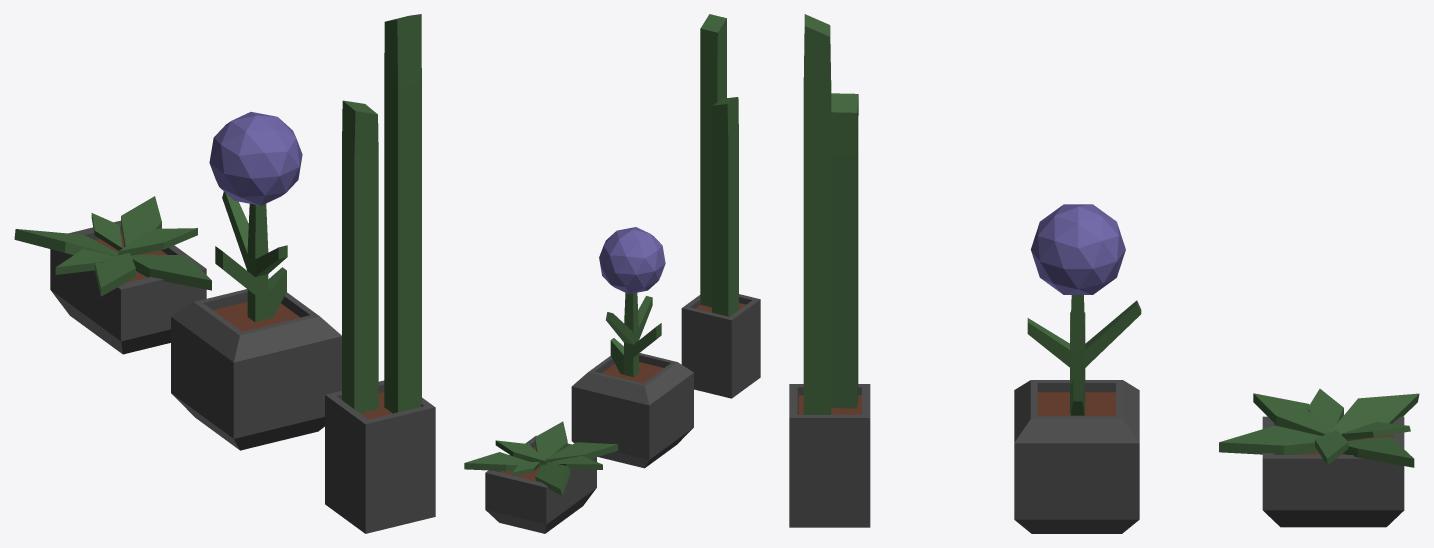
File: plant3.fbx
The picture shows the model from 3 angles, left to right: view 1: azimuth 30°, elevation 25°; view 2: azimuth 150°, elevation 25°; view 3: azimuth 270°, elevation 25°; orthographic projection. The views are drawn at different scales.
Parts seen in each view (by area): view 1: Pot1, Cube, Pot 3, Cube.001, Pot2, Flower, Plant1, Leef.003, Leef.005, Leef.004, Leef.002, Leef (+3 smaller); view 2: Pot1, Pot 3, Cube.001, Pot2, Cube, Flower, Plant1, Leef, Leef.003, Leef.002, Leef.005, Leef.004 (+2 smaller); view 3: Pot1, Cube, Pot2, Pot 3, Cube.001, Flower, Plant1, Leef.003, Leef.005, Leef, Dirt, Leef.002 (+3 smaller).
Part boxes in pixels (x1=…): Pot1: x1=171, y1=289, x2=341, y2=450; Cube: x1=384, y1=14, x2=421, y2=413; Pot 3: x1=325, y1=380, x2=435, y2=533; Cube.001: x1=342, y1=100, x2=378, y2=413; Pot2: x1=50, y1=220, x2=206, y2=354; Flower: x1=209, y1=112, x2=302, y2=205; Plant1: x1=215, y1=191, x2=287, y2=322; Leef.003: x1=131, y1=254, x2=211, y2=290; Leef.005: x1=14, y1=229, x2=118, y2=256; Leef.004: x1=118, y1=228, x2=197, y2=255; Leef.002: x1=121, y1=196, x2=161, y2=246; Leef: x1=95, y1=253, x2=135, y2=296; Pot1: x1=571, y1=353, x2=693, y2=468; Pot 3: x1=681, y1=294, x2=760, y2=398; Cube.001: x1=712, y1=97, x2=738, y2=316; Pot2: x1=485, y1=435, x2=596, y2=533; Cube: x1=700, y1=14, x2=726, y2=307; Flower: x1=599, y1=227, x2=665, y2=294; Plant1: x1=606, y1=292, x2=661, y2=377; Leef: x1=544, y1=442, x2=618, y2=462; Leef.003: x1=535, y1=421, x2=567, y2=468; Leef.002: x1=464, y1=452, x2=539, y2=471; Leef.005: x1=535, y1=462, x2=570, y2=495; Leef.004: x1=495, y1=440, x2=546, y2=464; Pot1: x1=1014, y1=380, x2=1139, y2=533; Cube: x1=803, y1=14, x2=831, y2=414; Pot2: x1=1262, y1=416, x2=1404, y2=527; Pot 3: x1=789, y1=384, x2=870, y2=527; Cube.001: x1=831, y1=93, x2=858, y2=408; Flower: x1=1030, y1=204, x2=1125, y2=294; Plant1: x1=1027, y1=295, x2=1141, y2=415; Leef.003: x1=1219, y1=425, x2=1321, y2=454; Leef.005: x1=1330, y1=393, x2=1419, y2=440; Leef: x1=1253, y1=393, x2=1328, y2=435; Dirt: x1=1037, y1=392, x2=1115, y2=415; Leef.002: x1=1343, y1=436, x2=1414, y2=467.
Size of the model in its own units: 256 by 839 by 953.
